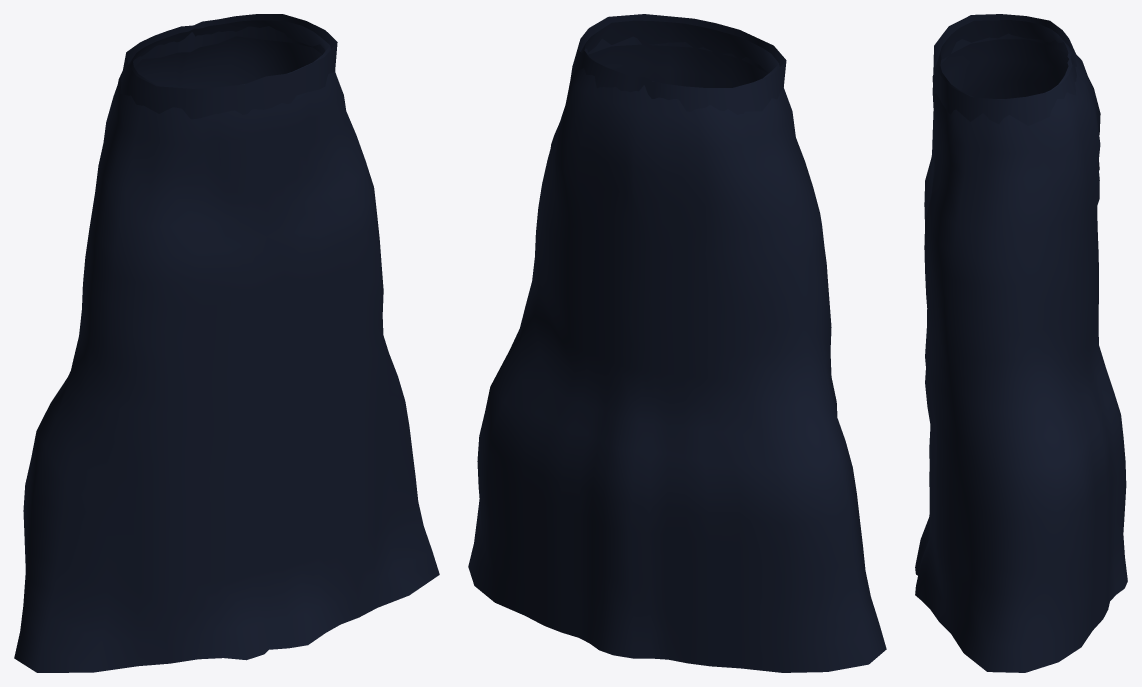
The model's file is hakama.glb.
3 renders of one model, left to right at view 1: azimuth 30°, elevation 25°; view 2: azimuth 150°, elevation 25°; view 3: azimuth 270°, elevation 25°, orthographic. The views are drawn at different scales.
Parts seen in each view (by area): view 1: hakama; view 2: hakama; view 3: hakama.
Boxes of the visible parts, x1,y1,x2,y2 form: hakama: (14,14,439,672); hakama: (468,14,886,672); hakama: (915,14,1127,672).
Bounding box in the file's own units: 0.7402 × 0.9865 × 0.3609.
